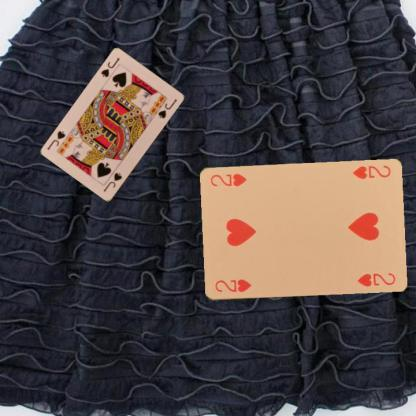2h: (350, 163, 392, 181), (212, 276, 253, 294)
Js: (98, 55, 122, 78), (101, 170, 123, 193)
